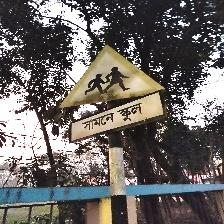School-in-front: (59, 44, 167, 143)
